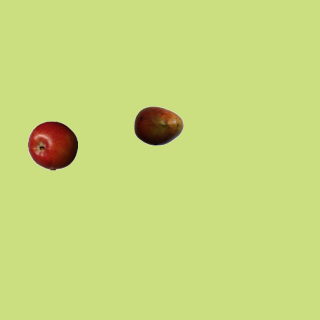Apple Braeburn: (27, 120, 77, 170)
Mango Red: (133, 100, 183, 150)
